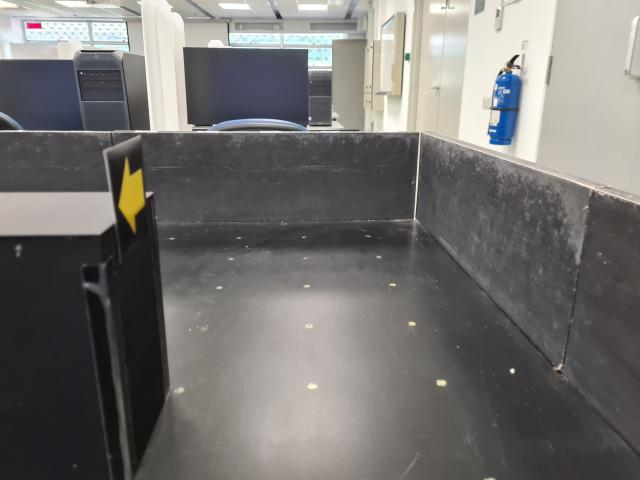right: (102, 134, 152, 264)
